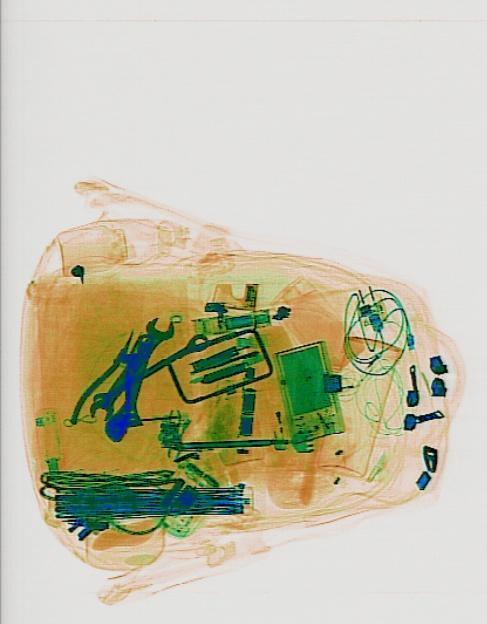Pliers: (66, 321, 156, 447)
Wrench: (84, 323, 211, 427), (115, 310, 175, 431)
